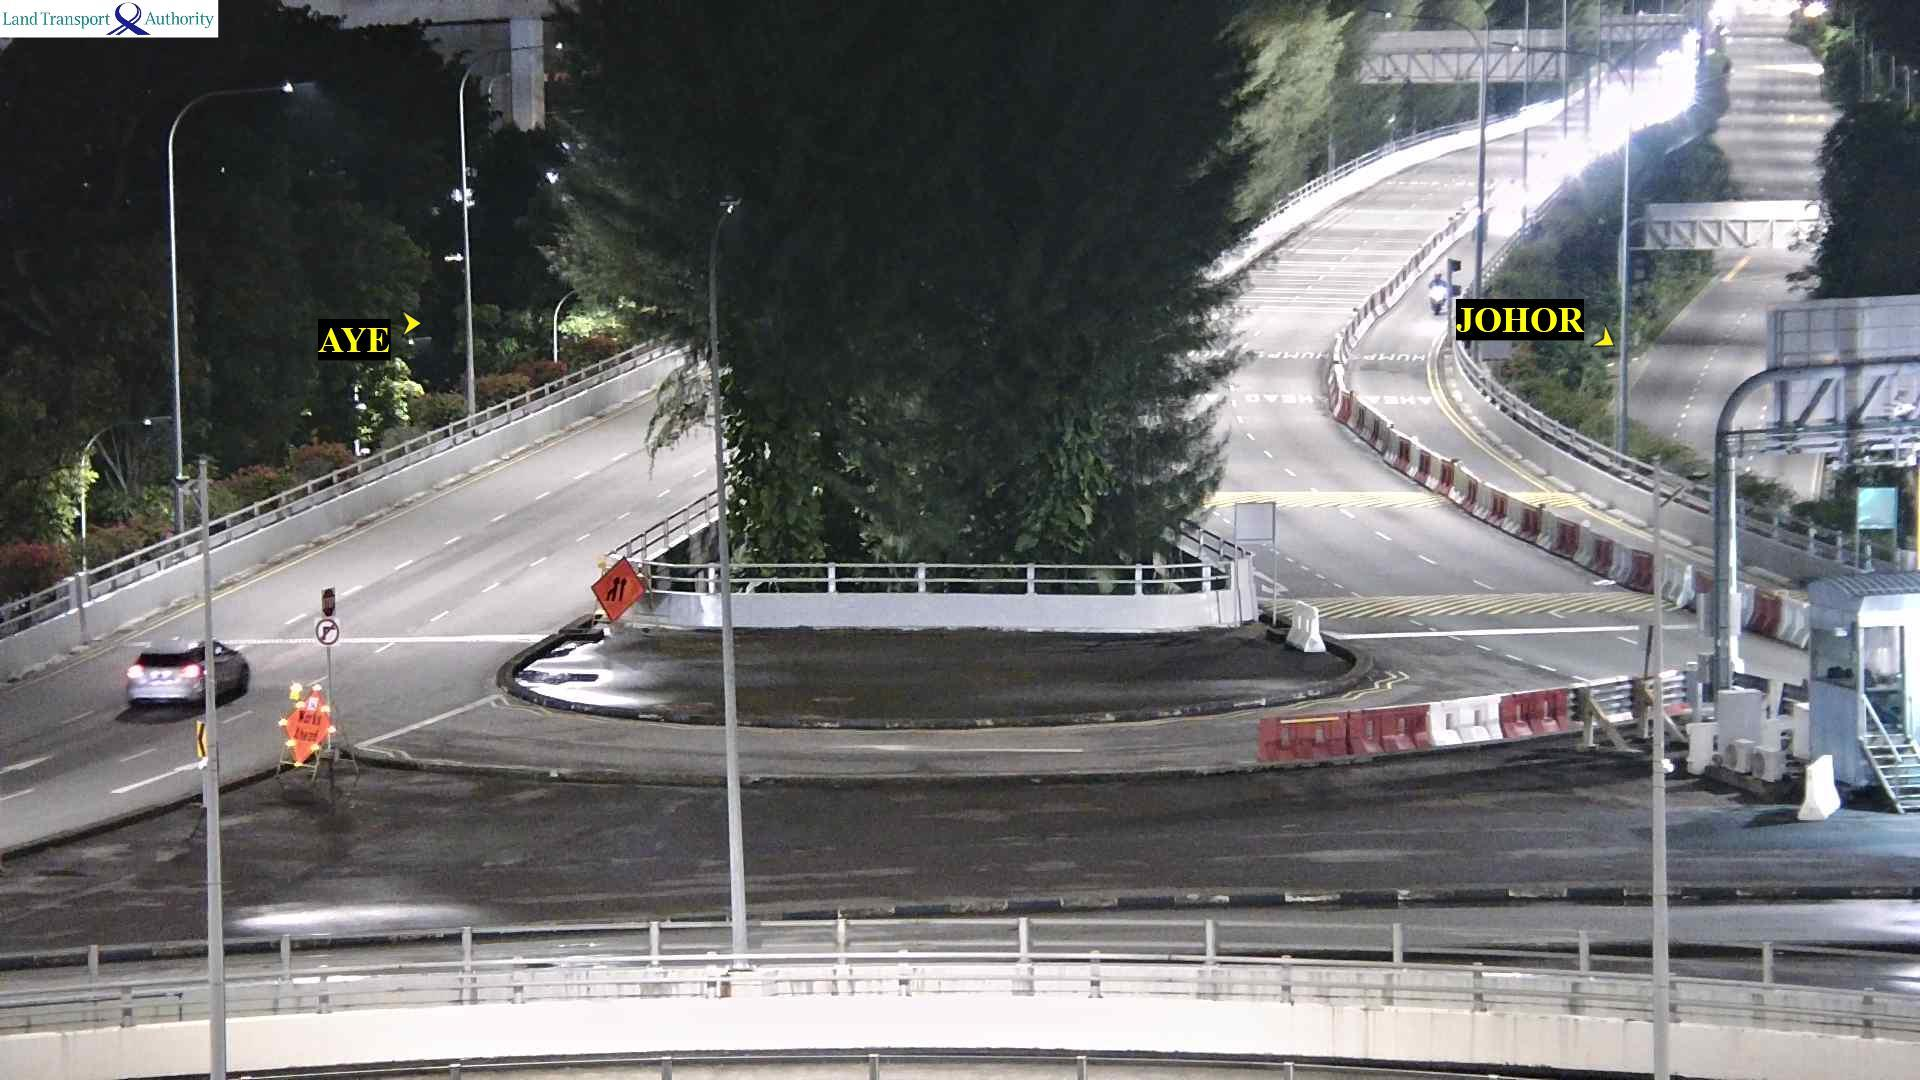vehicle-secondlink-johor: (1433, 271, 1446, 319)
vehicle-secondlink-singapore: (124, 641, 255, 713)
